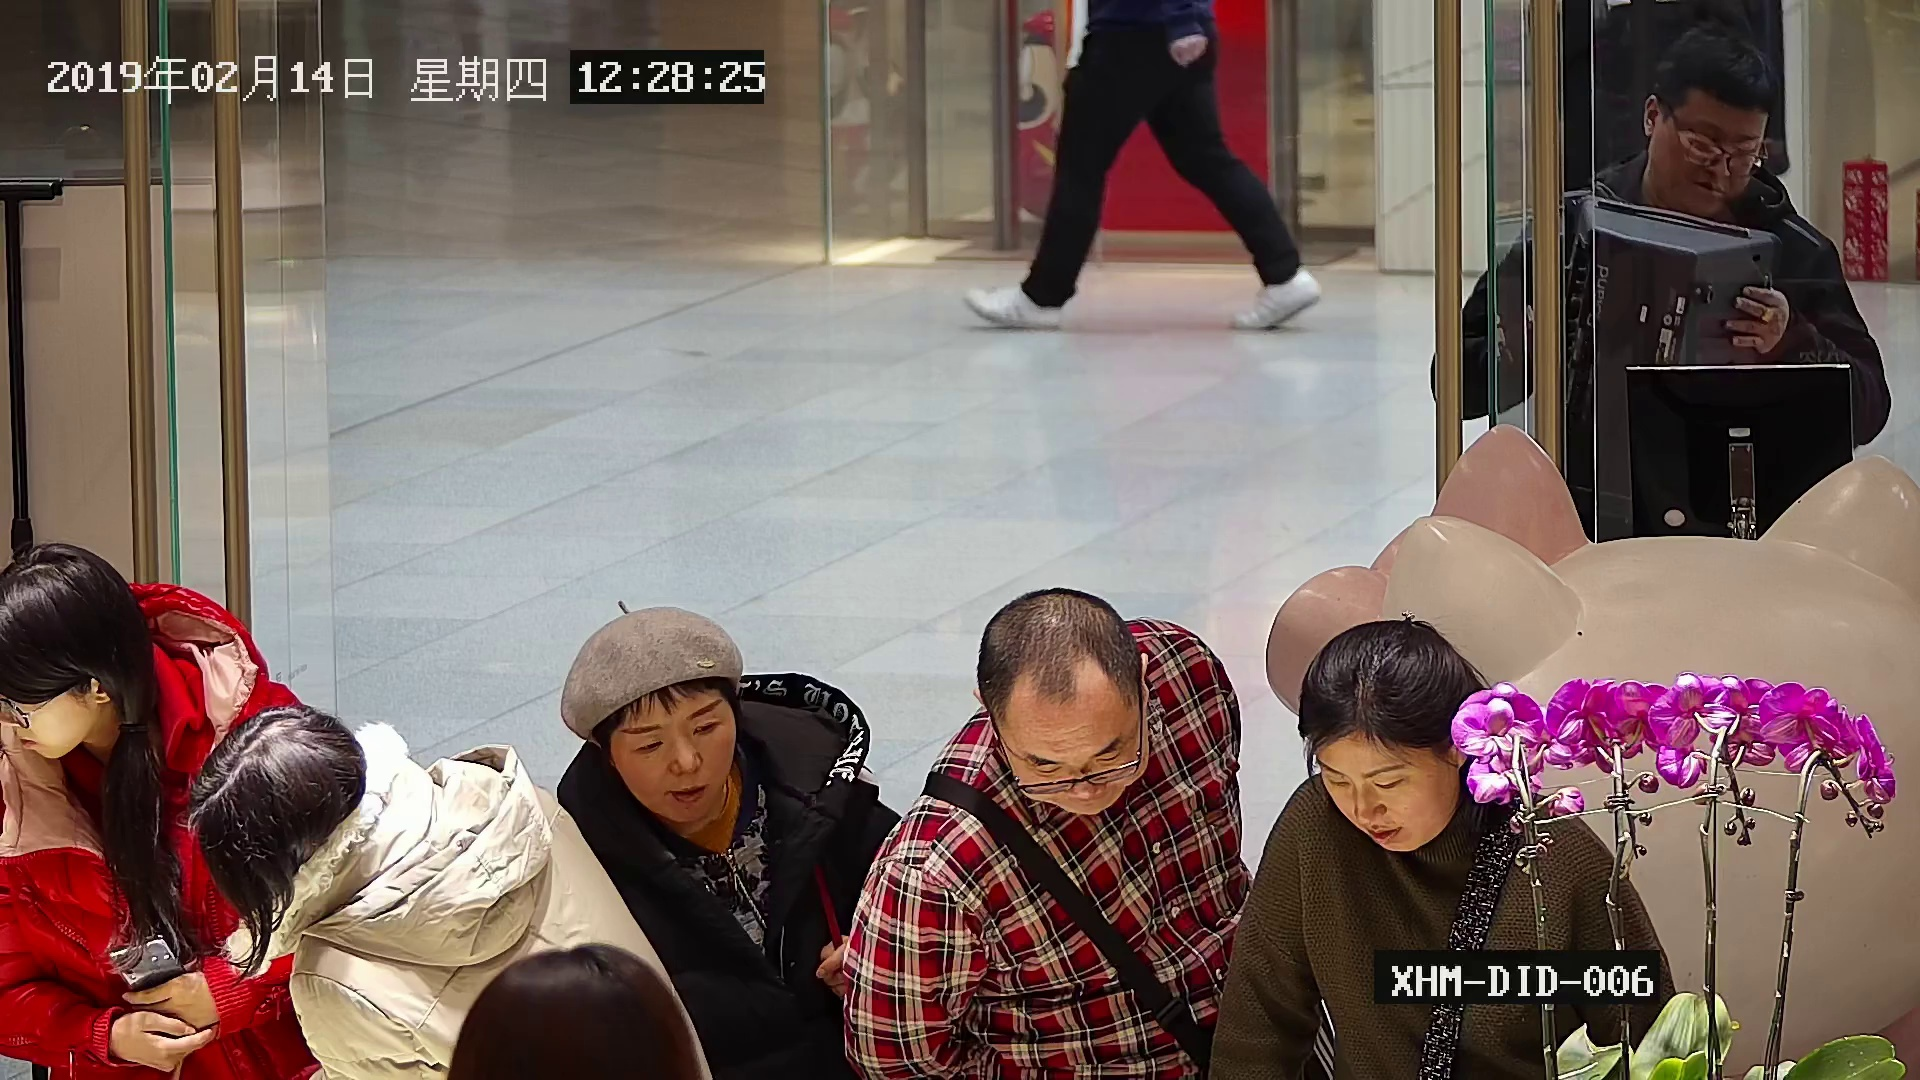head: (1298, 614, 1475, 851), (977, 584, 1154, 817), (185, 704, 364, 909), (585, 608, 744, 821), (450, 942, 699, 1073), (0, 540, 128, 763), (1641, 14, 1768, 213)
